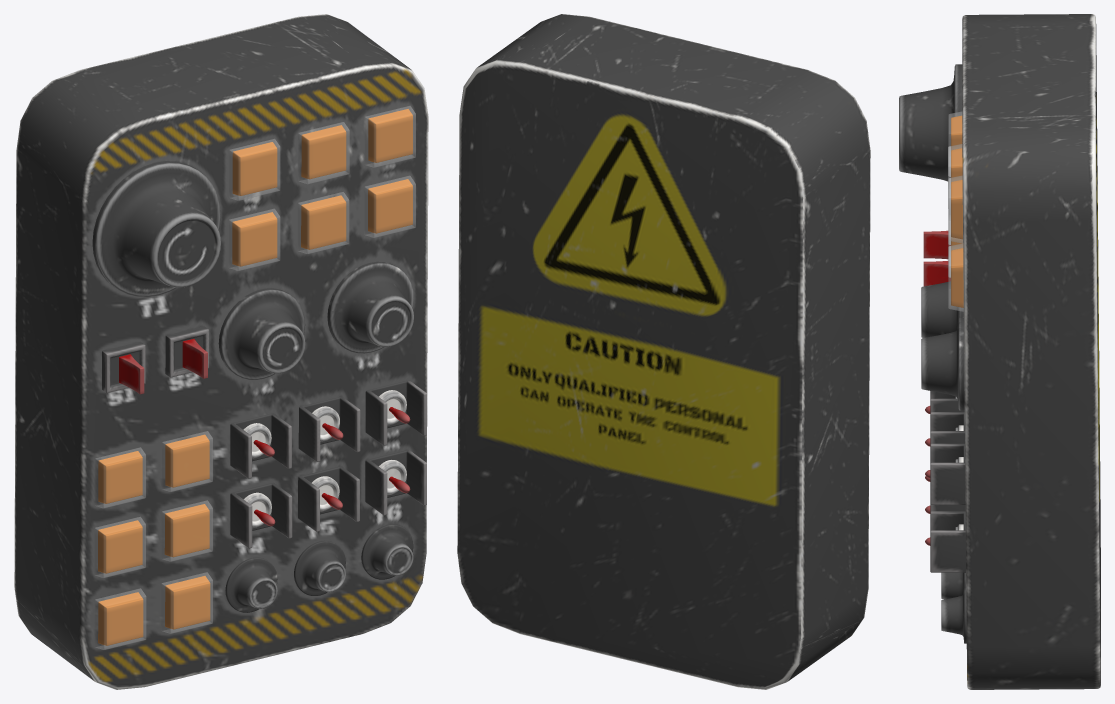
File: panel.glb
3 renders of one model, left to right at view 1: azimuth 30°, elevation 25°; view 2: azimuth 150°, elevation 25°; view 3: azimuth 270°, elevation 25°, orthographic. The views are drawn at different scales.
Visible parts, largest first — view 1: Object_3, Object_2; view 2: Object_3; view 3: Object_3, Object_2.
Part boxes in pixels (x1,y1,x2,y2): Object_3: [14, 14, 428, 689]; Object_2: [98, 109, 412, 645]; Object_3: [457, 14, 870, 689]; Object_3: [899, 14, 1100, 689]; Object_2: [951, 115, 963, 307].
Size of the model in its own units: 10.16 by 16.03 by 5.29.
Materials: 2 (2 with a texture image).
